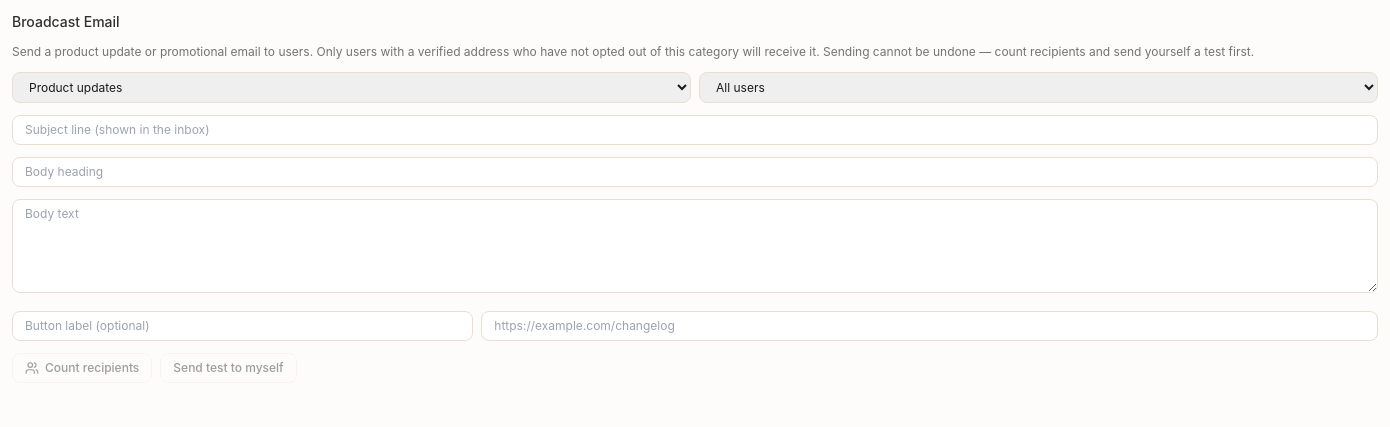
Test: EmailBroadcastSection › 服务端报错时显示错误文案
Type "Subject" into the field with placeholder "Subject line (shown in the inbox)".
click(695, 130); type("Subject")  # box x1=12 y1=115 x2=1378 y2=145
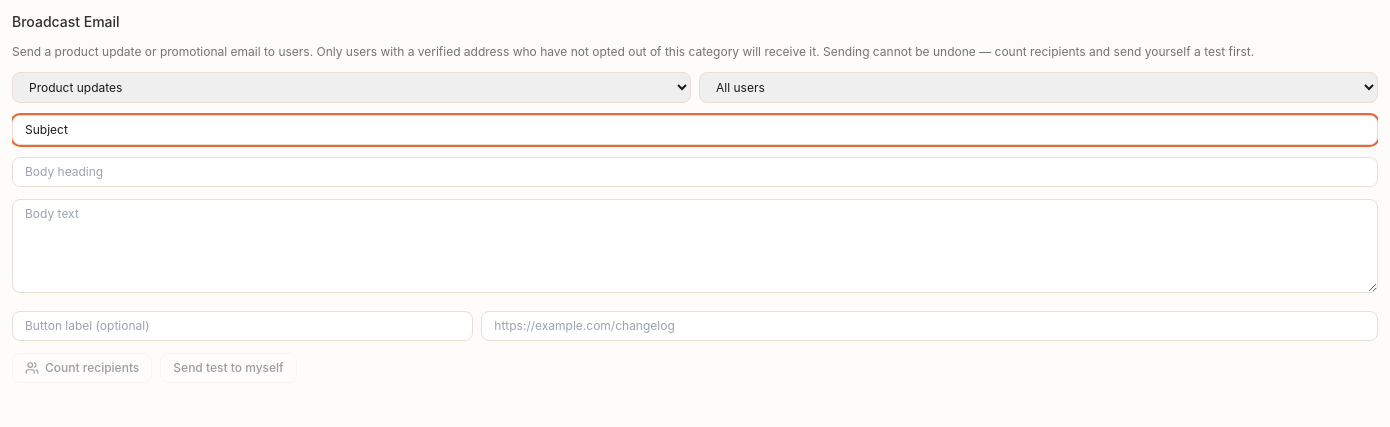
Type "Heading" into the field with placeholder "Body heading".
click(695, 172); type("Heading")  # box x1=12 y1=157 x2=1378 y2=187
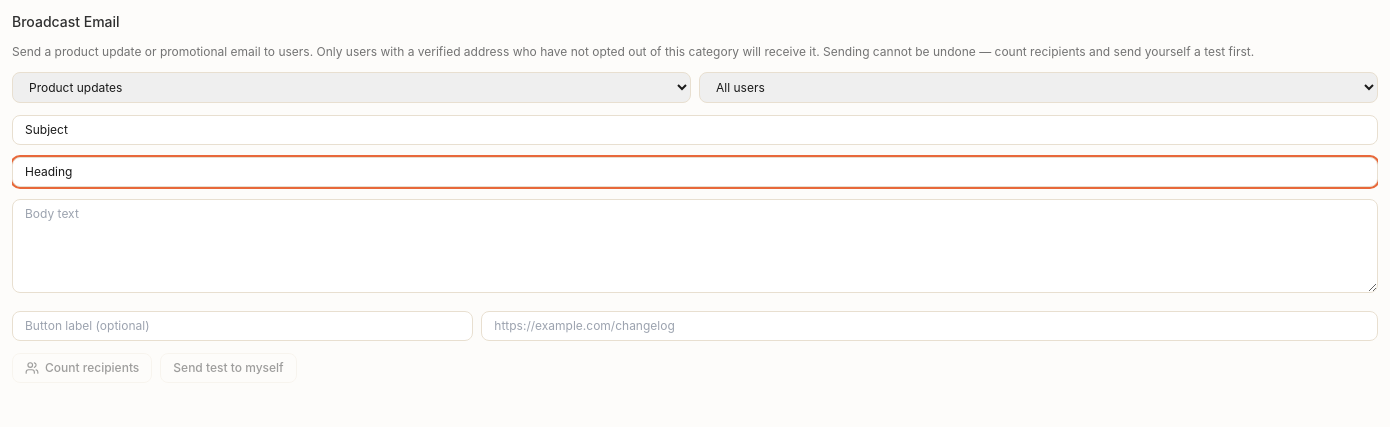
Type "Body" into the text box with placeholder "Body text".
click(695, 246); type("Body")  # box x1=12 y1=199 x2=1378 y2=293
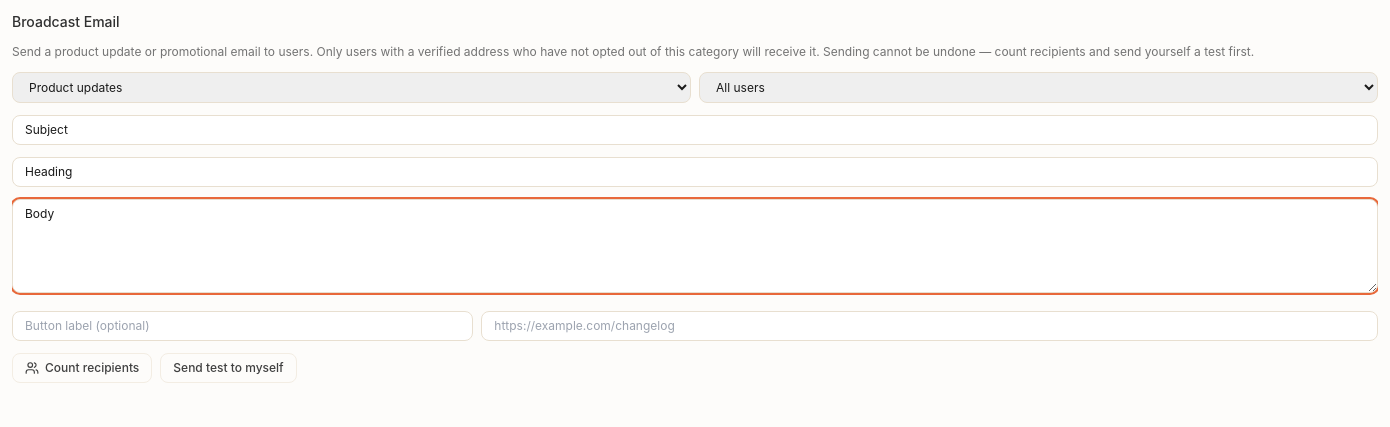
Click the button "Count recipients".
click(82, 368)  # box x1=12 y1=353 x2=152 y2=383
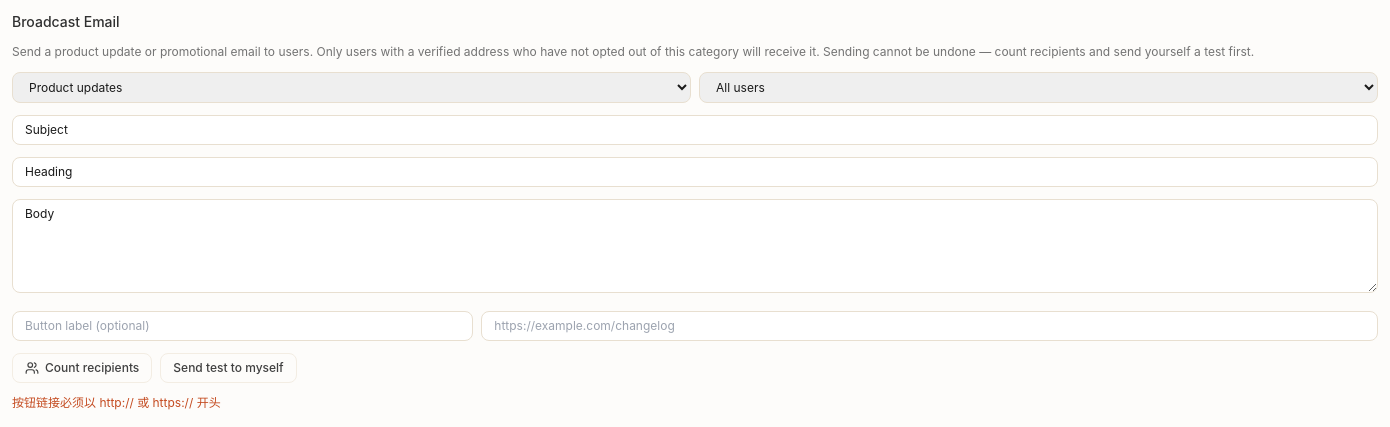
Expected: the text "按钮链接必须以 http:// 或 https:// 开头" is shown, x1=12 y1=395 x2=221 y2=410
